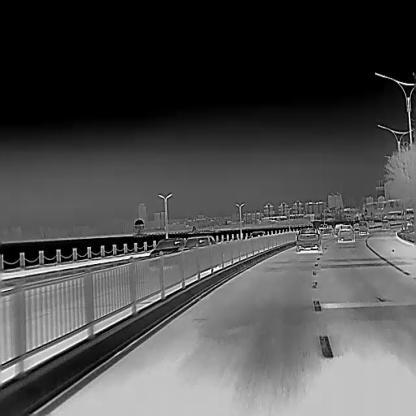car: (147, 238, 185, 267), (295, 227, 322, 252), (181, 235, 216, 250), (337, 224, 354, 242), (358, 220, 369, 235), (381, 218, 391, 230), (248, 231, 265, 238)
